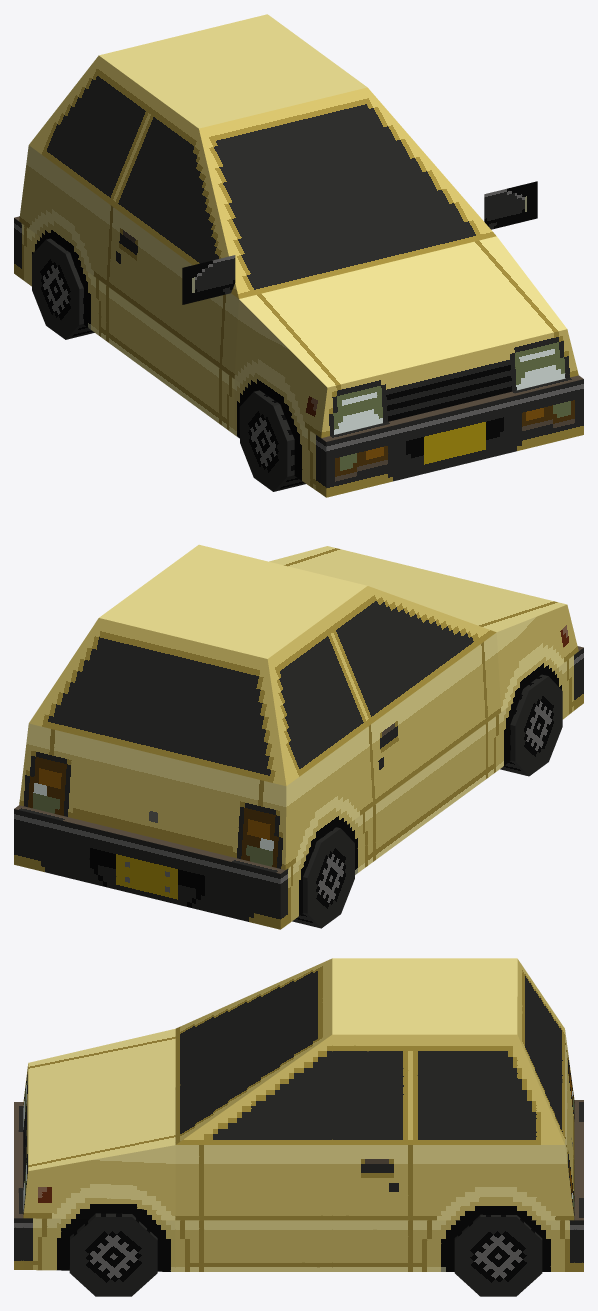
Rendered from car distorted test simplified.glb.
The picture shows the model from 3 angles, top to bottom: view 1: azimuth 30°, elevation 25°; view 2: azimuth 150°, elevation 25°; view 3: azimuth 270°, elevation 25°; orthographic projection. The views are drawn at different scales.
Visible parts, largest first — view 1: car, Cylinder.001, Cylinder.003; view 2: car, Cylinder.001, Cylinder.003; view 3: car, Cylinder, Cylinder.002.
Boxes of the visible parts, box(x1,y1,x2,y2) form: car: box(14, 14, 583, 497); Cylinder.001: box(239, 390, 305, 491); Cylinder.003: box(32, 238, 94, 339); car: box(14, 544, 583, 929); Cylinder.001: box(500, 674, 562, 776); Cylinder.003: box(292, 827, 354, 928); car: box(14, 958, 583, 1271); Cylinder: box(69, 1213, 157, 1296); Cylinder.002: box(454, 1214, 542, 1296).
Bounding box in the file's own units: 1.6 × 1.1 × 2.4.
1 material, 1 textured.
